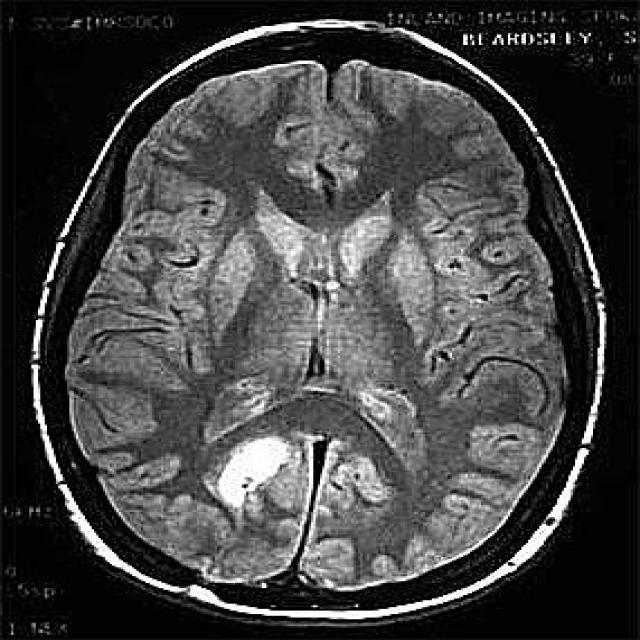Tumor-Cell: (197, 416, 431, 532)
